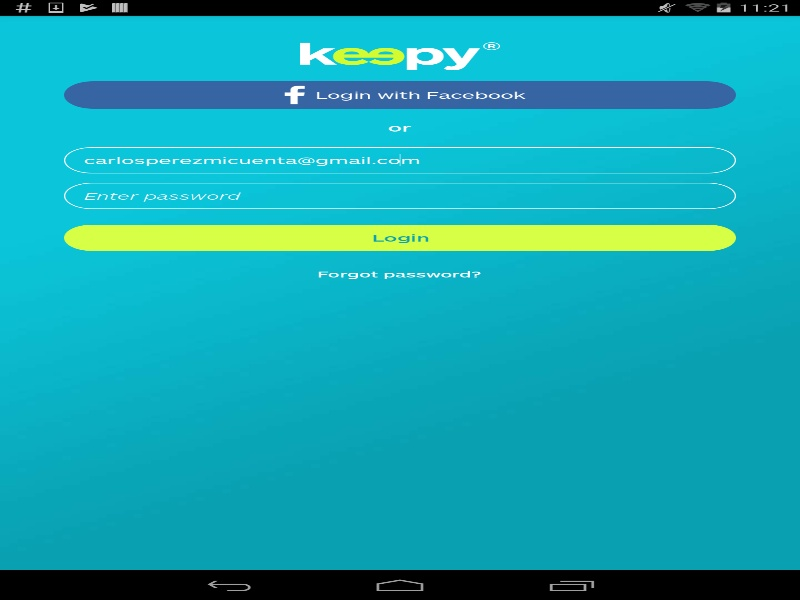Button: (64, 224, 736, 250), (314, 81, 525, 108), (274, 85, 314, 104)
Input: (64, 182, 736, 209), (64, 147, 736, 173)
